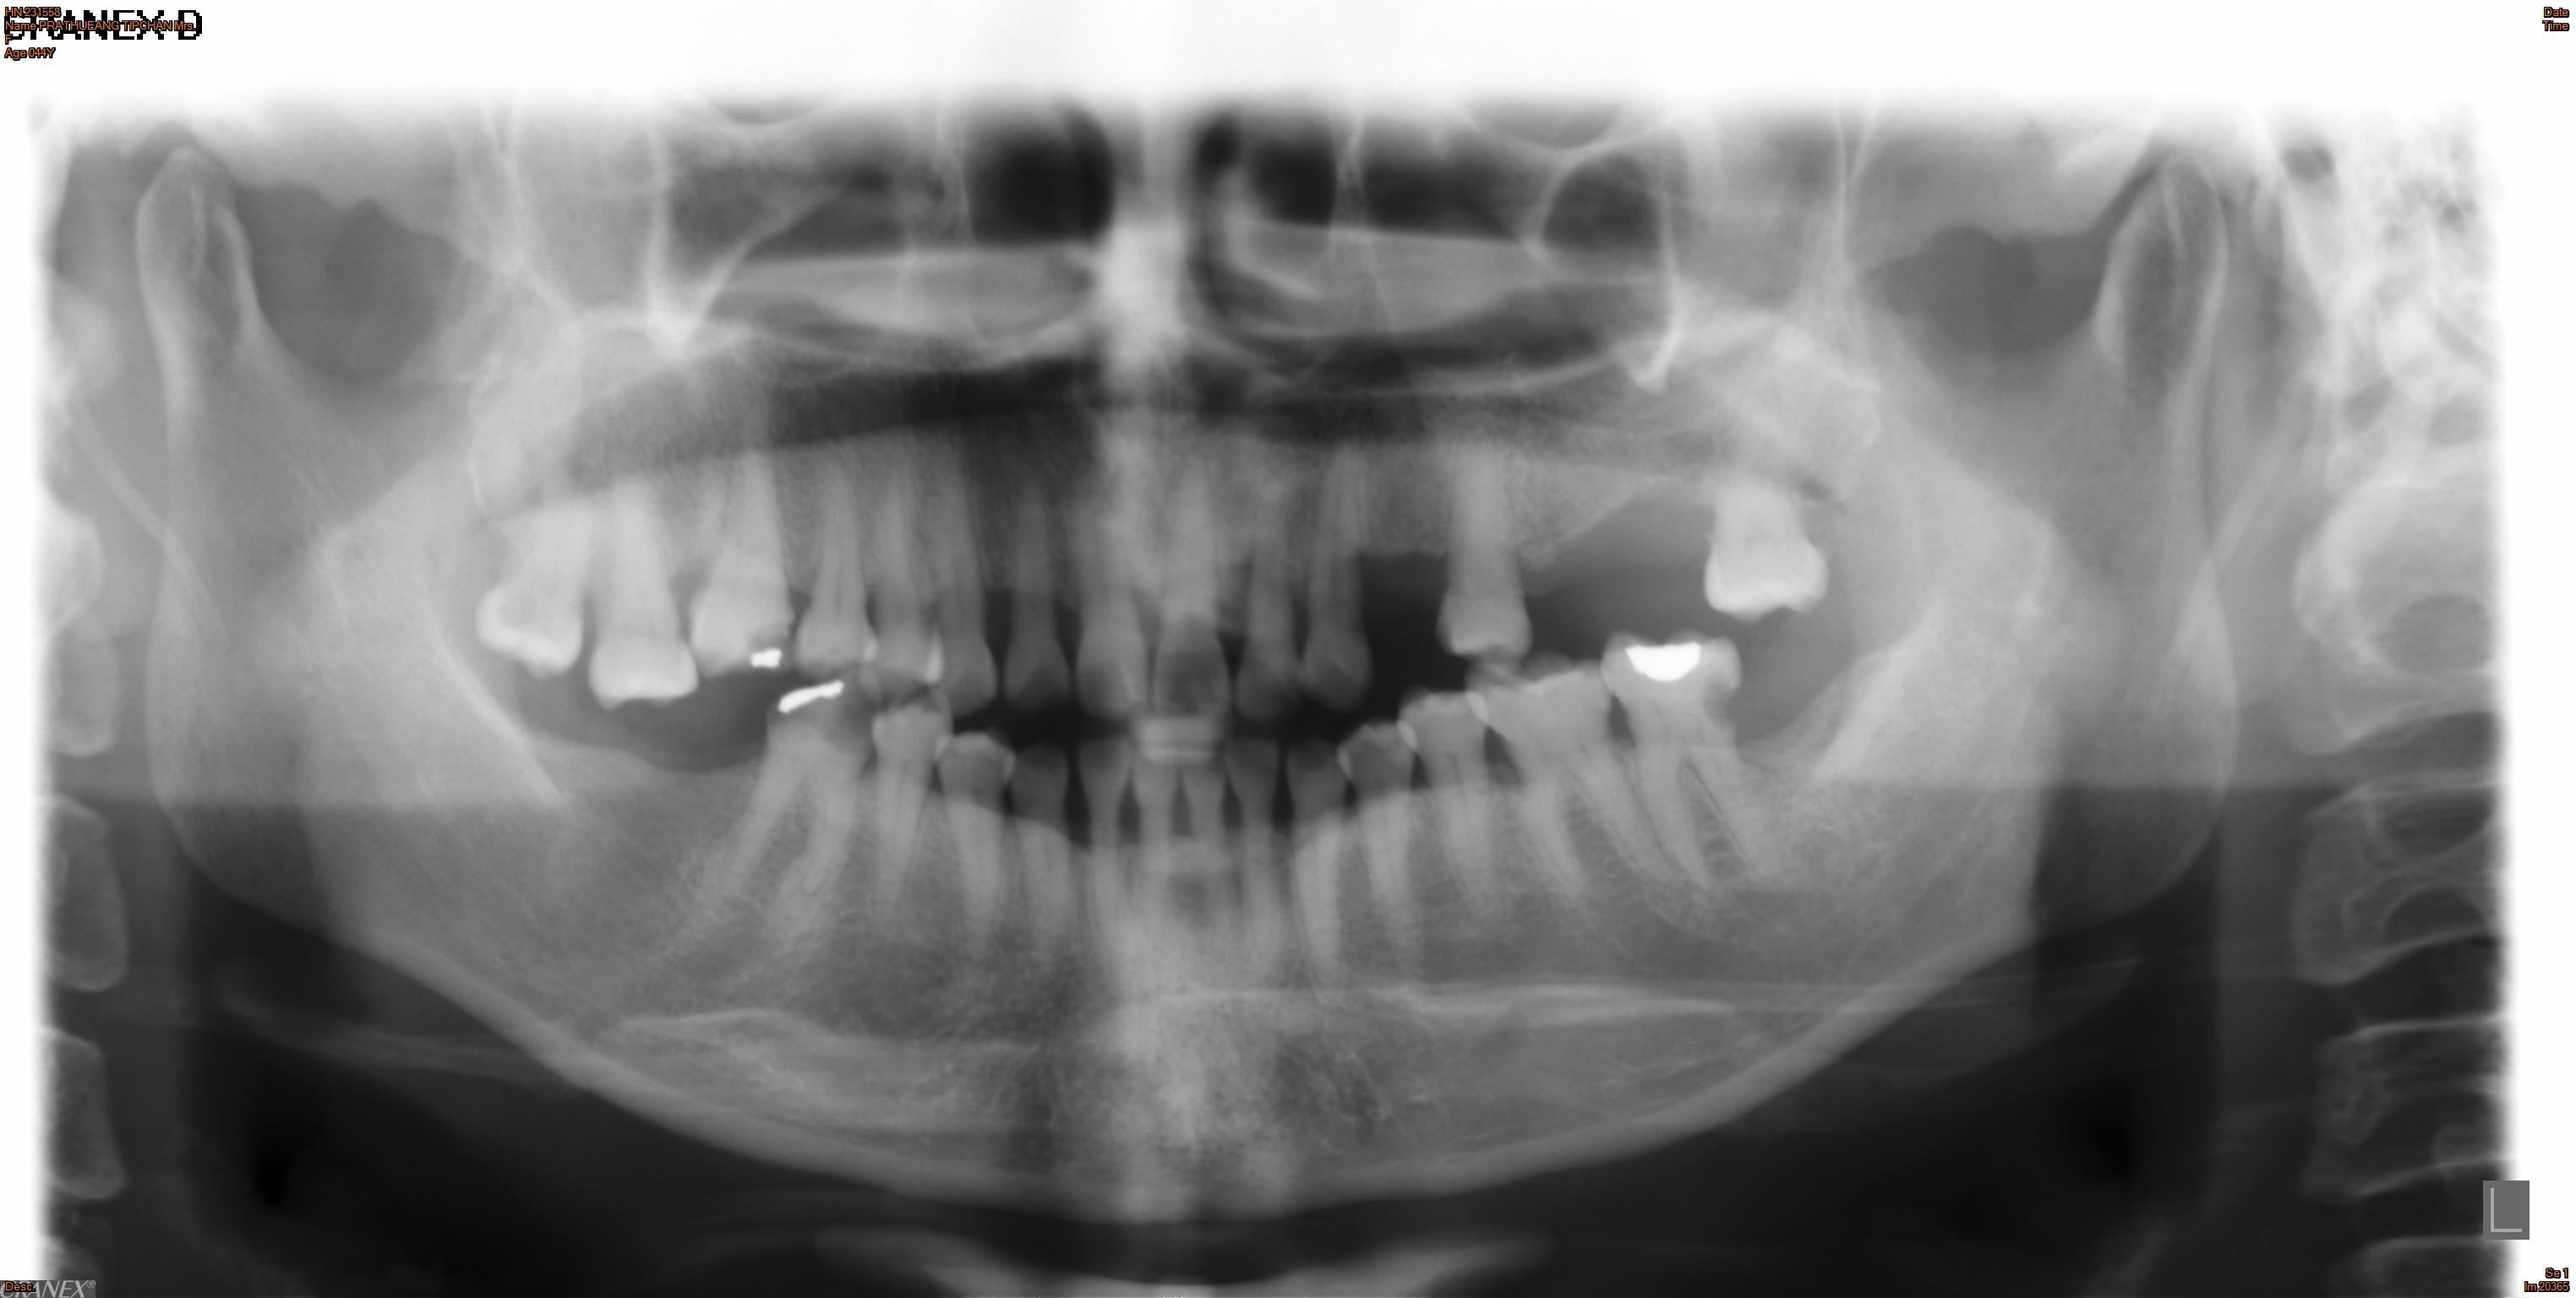periodontitis: (1586, 614, 1798, 916)
